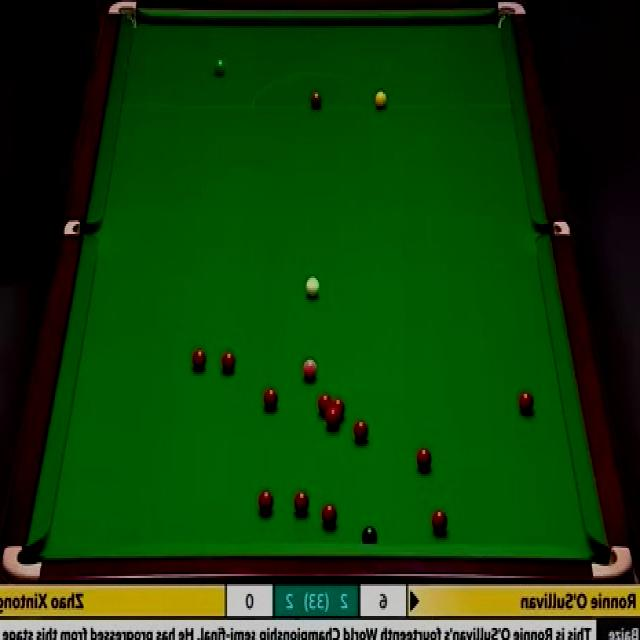black-ball: (360, 525, 378, 546)
brown-ball: (310, 88, 322, 108)
green-ball: (214, 56, 228, 78)
pink-ball: (301, 359, 318, 384)
red-ball: (264, 385, 282, 411), (518, 389, 535, 416), (432, 508, 449, 535), (190, 347, 206, 374), (292, 490, 310, 514), (220, 349, 236, 375), (322, 502, 338, 528), (258, 490, 274, 516), (353, 420, 368, 444), (332, 398, 346, 422), (318, 393, 331, 418), (416, 449, 432, 469), (324, 411, 340, 430)
white-ball: (306, 276, 321, 298)
yellow-ball: (374, 91, 388, 109)
